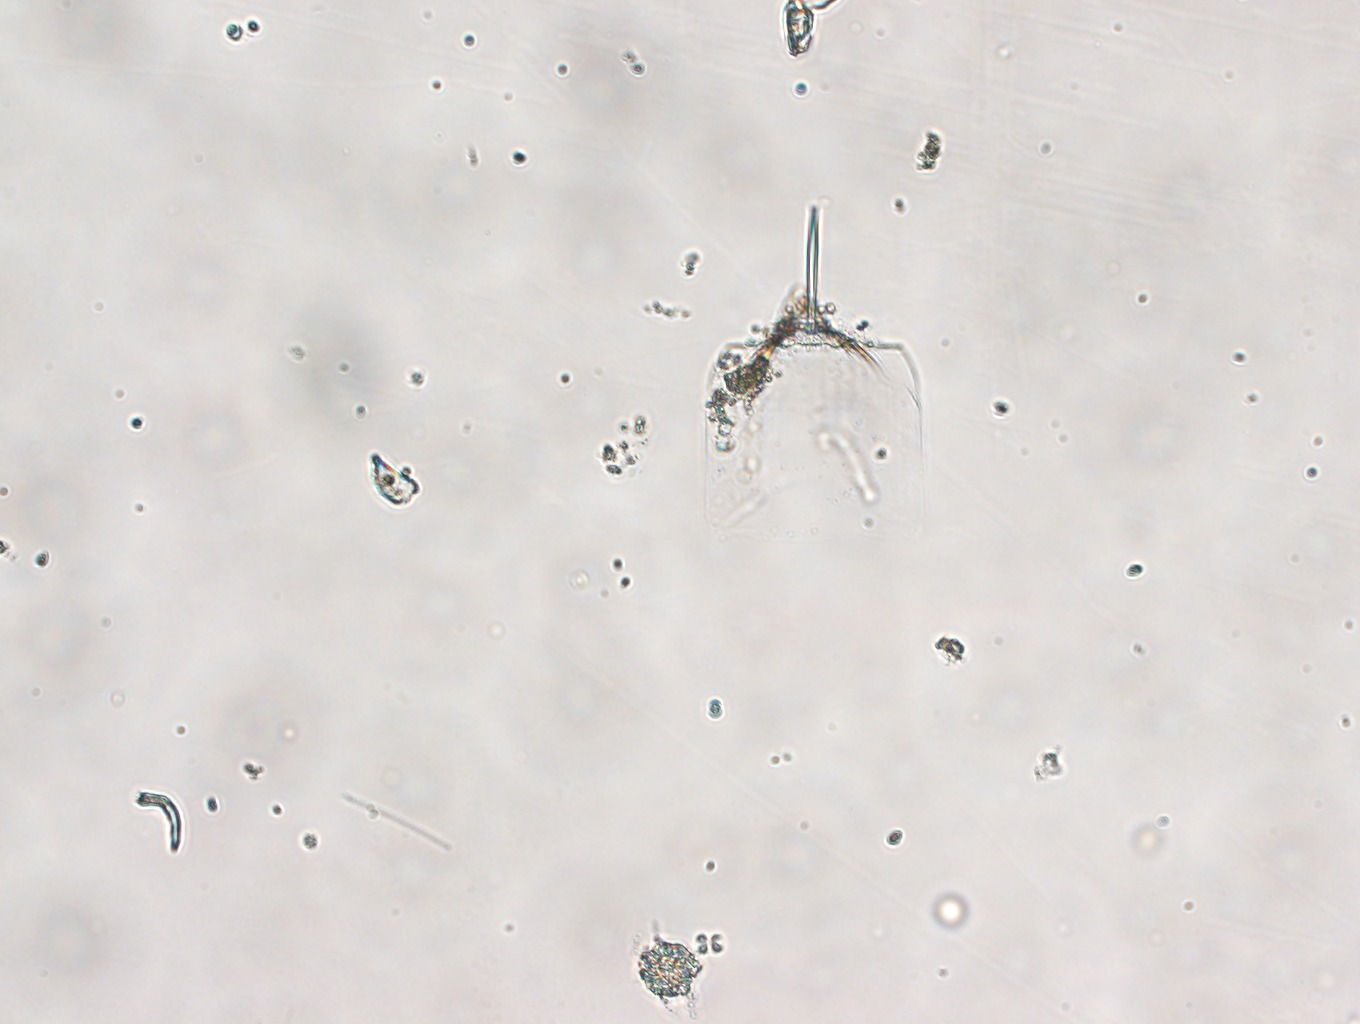ditylum: (679, 195, 940, 556)
